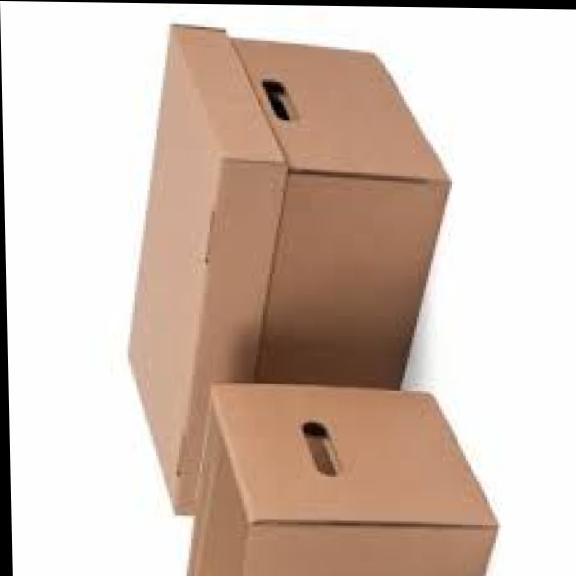Kertas: (129, 27, 449, 512), (189, 382, 495, 575)
